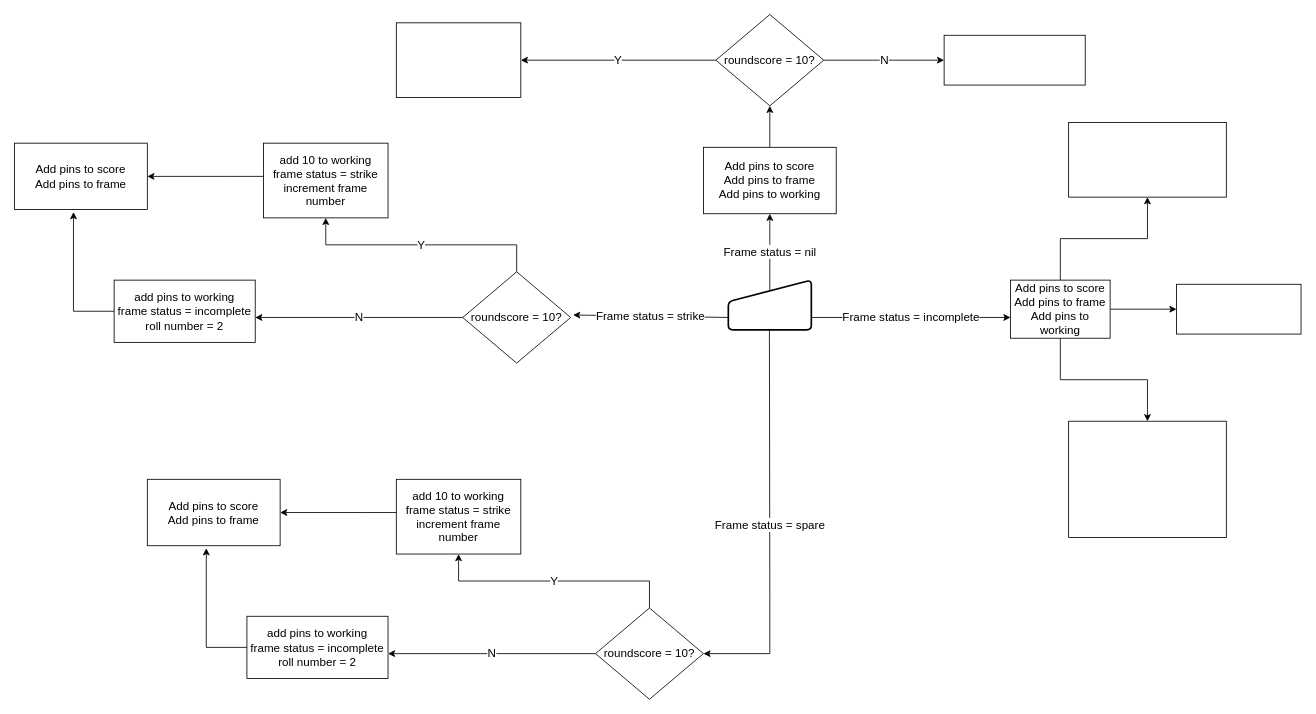
Some shapes in this 1316 by 714 pixel diagram are drawn without their labels. Each missing label, with the centre of its shape:
"add 10 to working increment frame frame status = strike" belongs at point 458,60.
"frame status = incomplete roll number = 2" belongs at point 1014,59.
"if working score < 10 roll number = 1 frame status = nil increment frame" belongs at point 1147,159.
"if working score = 10 frame status = spare increment frame roll number = 1" belongs at point 1147,478.
"if working score > 10 raise error" belongs at point 1238,308.
"Score (pins)" belongs at point 769,304.
